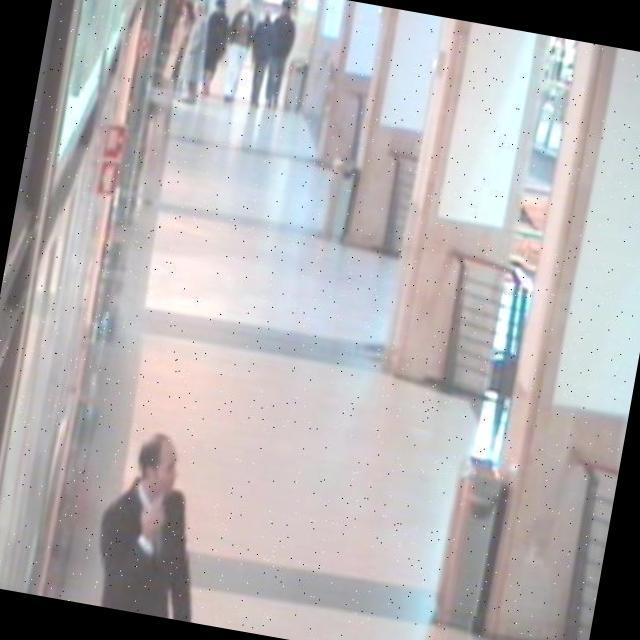person: (84, 420, 225, 622), (255, 0, 305, 113), (215, 0, 264, 106), (170, 0, 217, 109), (194, 0, 237, 104)
